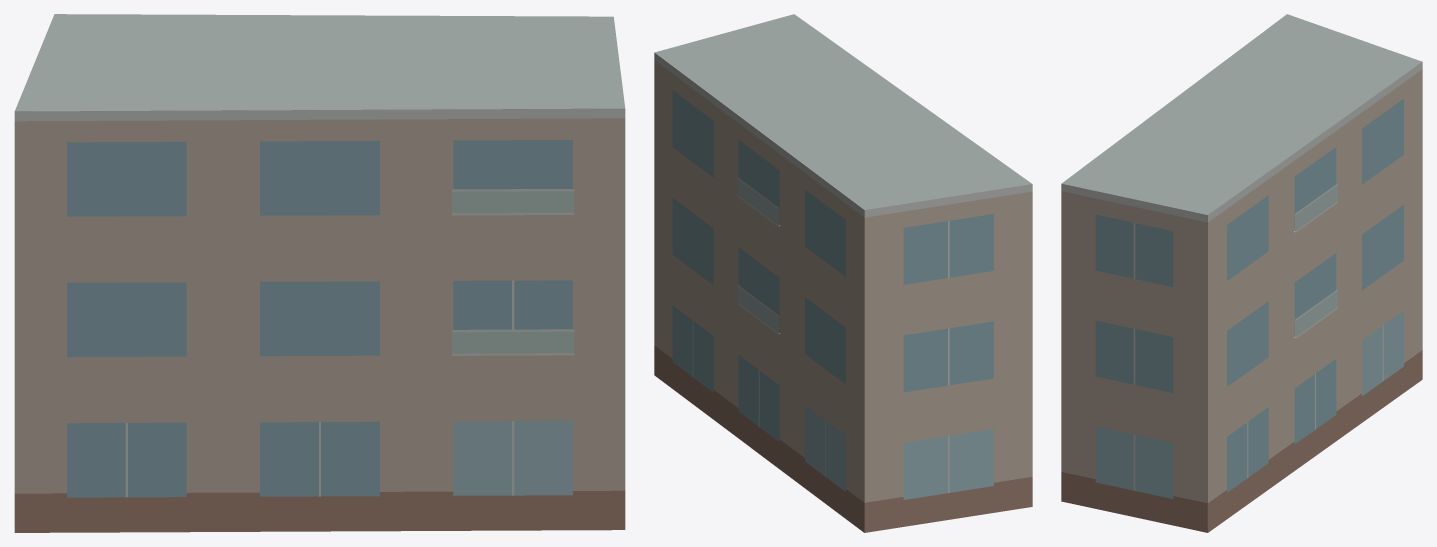
Rendered from survey-upis-32495841.glb.
The picture shows the model from 3 angles, left to right: view 1: azimuth 30°, elevation 25°; view 2: azimuth 150°, elevation 25°; view 3: azimuth 270°, elevation 25°; orthographic projection. The views are drawn at different scales.
Parts seen in each view (by area): view 1: survey-upis-32495841.tmp; view 2: survey-upis-32495841.tmp; view 3: survey-upis-32495841.tmp.
Boxes of the visible parts, box(x1,y1,x2,y2) form: survey-upis-32495841.tmp: box(14, 14, 625, 532); survey-upis-32495841.tmp: box(654, 14, 1032, 532); survey-upis-32495841.tmp: box(1061, 14, 1422, 532).
Bounding box in the file's own units: 14.26 × 10.5 × 10.83.
